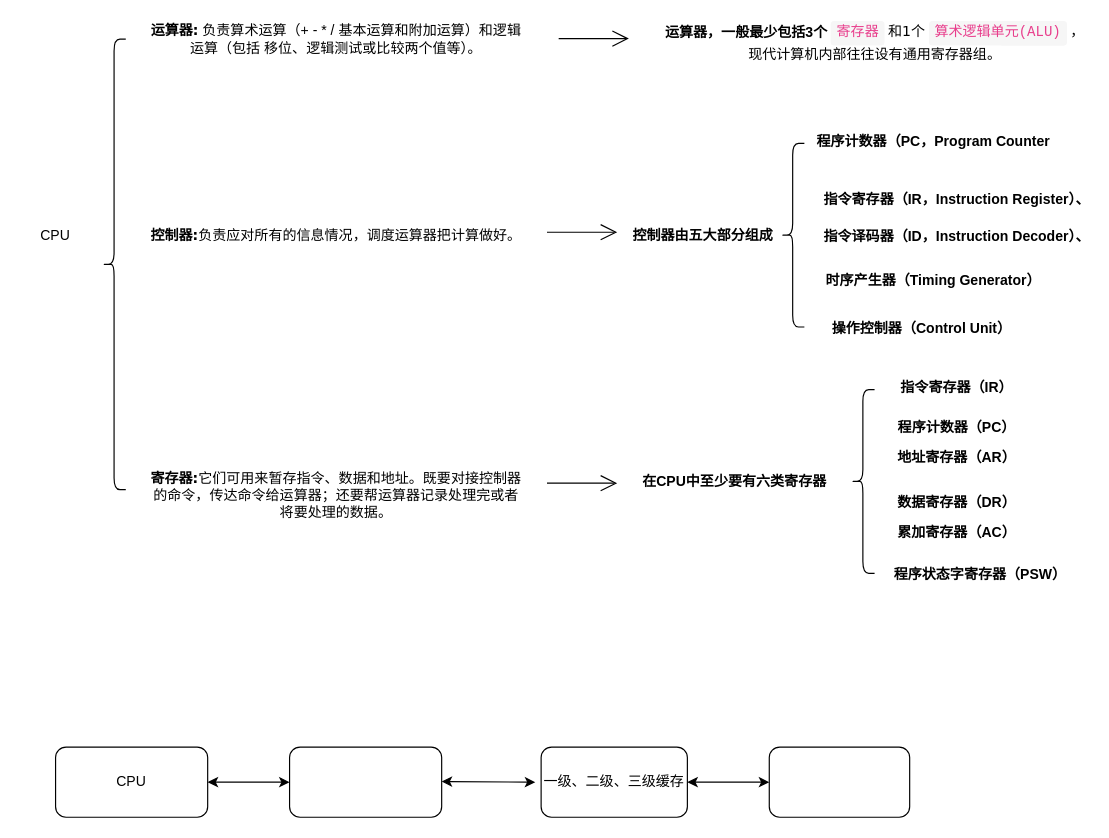
Some shapes in this 1109 by 838 pixel diagram are drawn without their labels. Here are the shapes that lost their labels. From the top down, the centre of each, then its label:
point (365, 781): 寄存器
point (839, 781): 主存
